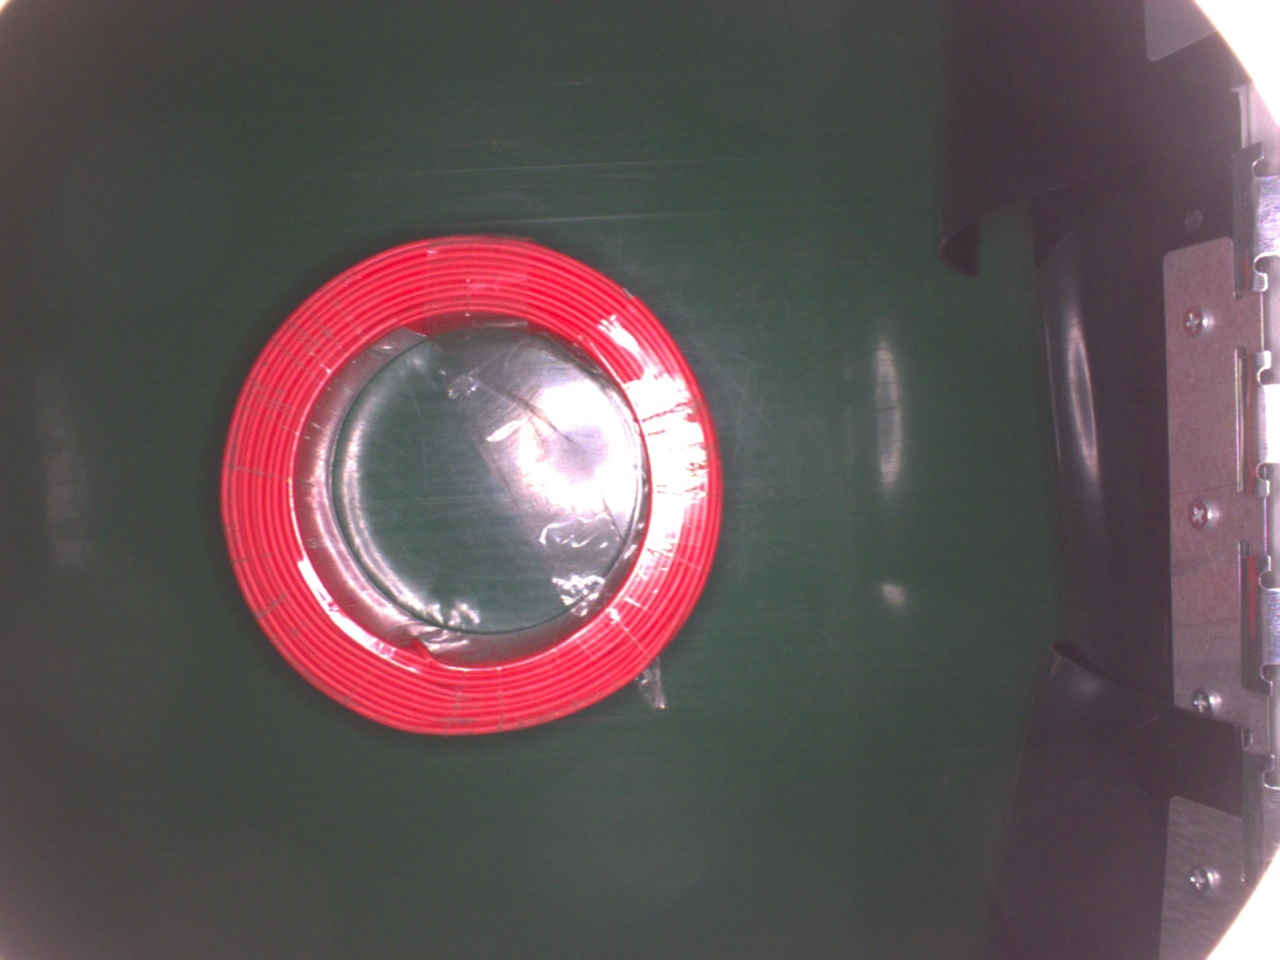red: (218, 233, 724, 738)
